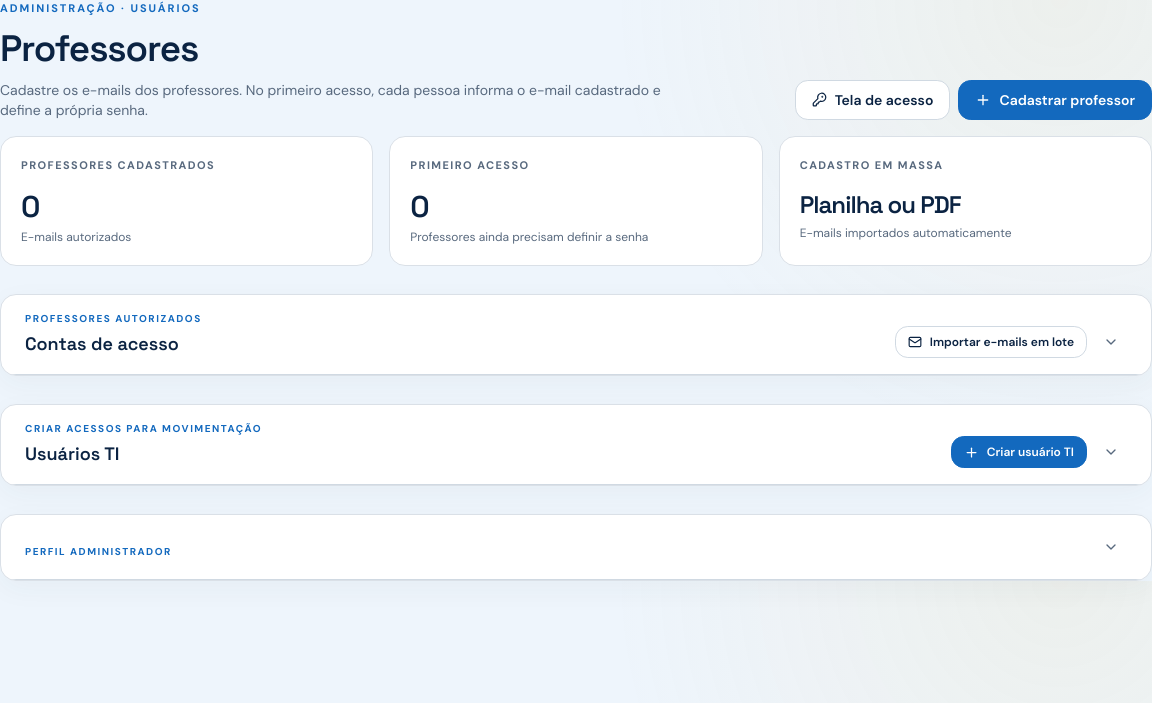
it: Teacher first access › Staff password changes › saves a TI password, confirms success, and keeps the TI account on the TI login
The width and height of the screenshot is (1152, 703).
Click the button named "Maximizar Usuários TI": point(1111, 452) [1095, 436, 1127, 468]
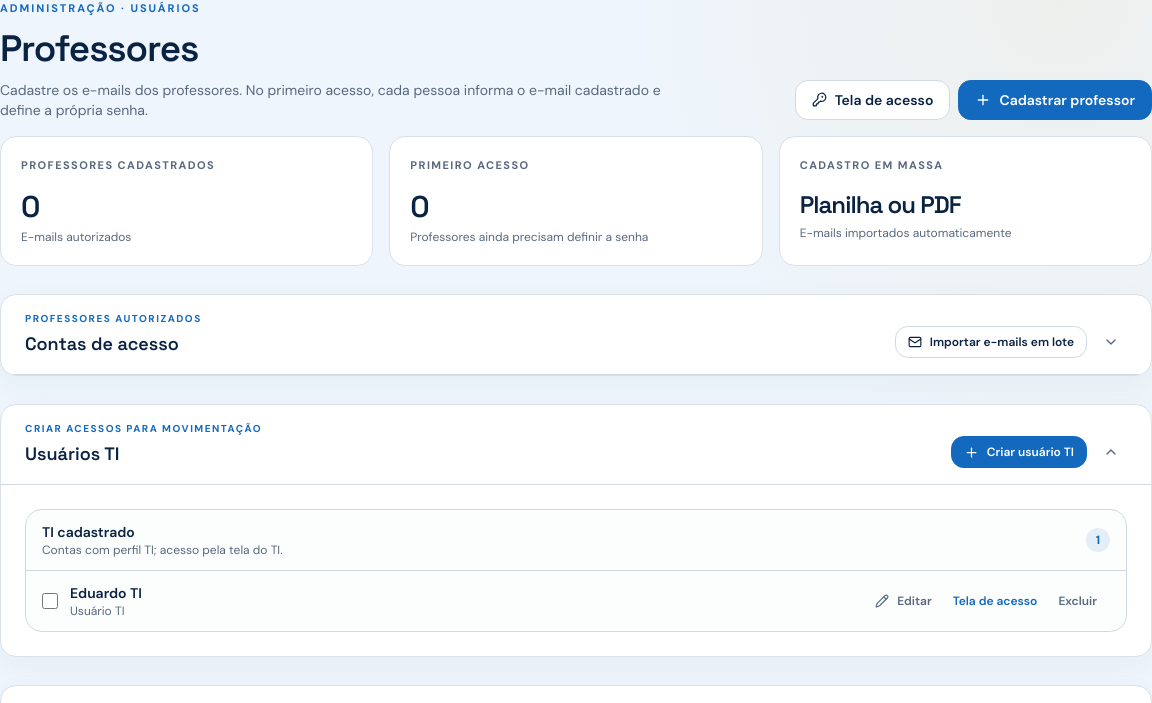
Expected: the text "Eduardo TI" is shown, [70, 583, 142, 603]
Expected: the checkbox named "Selecionar TI Eduardo TI" is shown, [42, 593, 58, 609]
Click the button "Editar": point(903, 601) [862, 585, 945, 617]
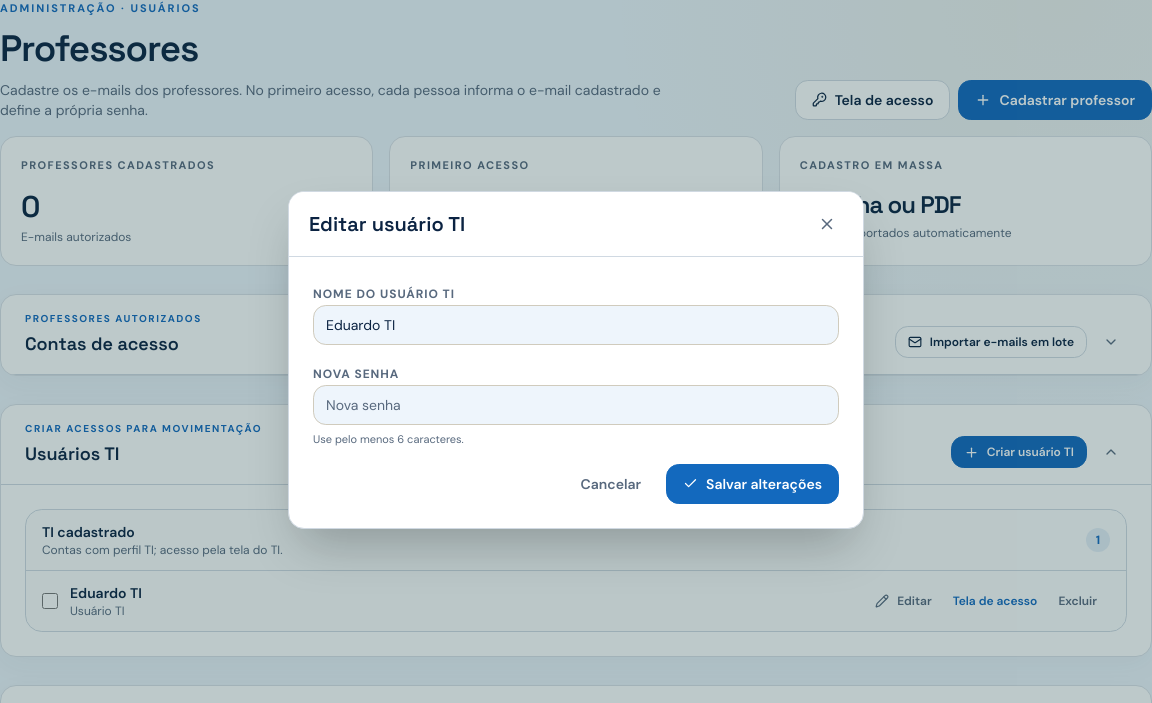
Expected: the dialog shows "Editar usuário TI", [309, 211, 465, 237]
In the password field with placeholder "Nova senha": point(576, 405) [313, 385, 839, 425], type "nova-senha-ti"
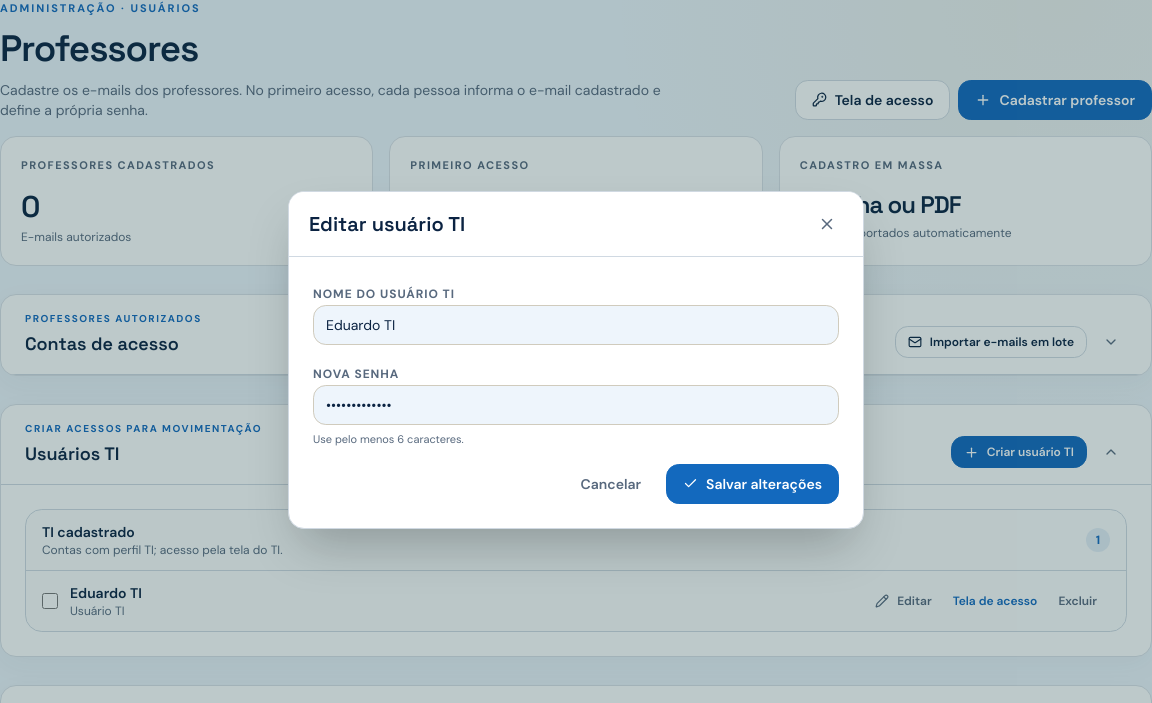
Click the button "Salvar alterações": point(753, 484) [666, 464, 839, 504]
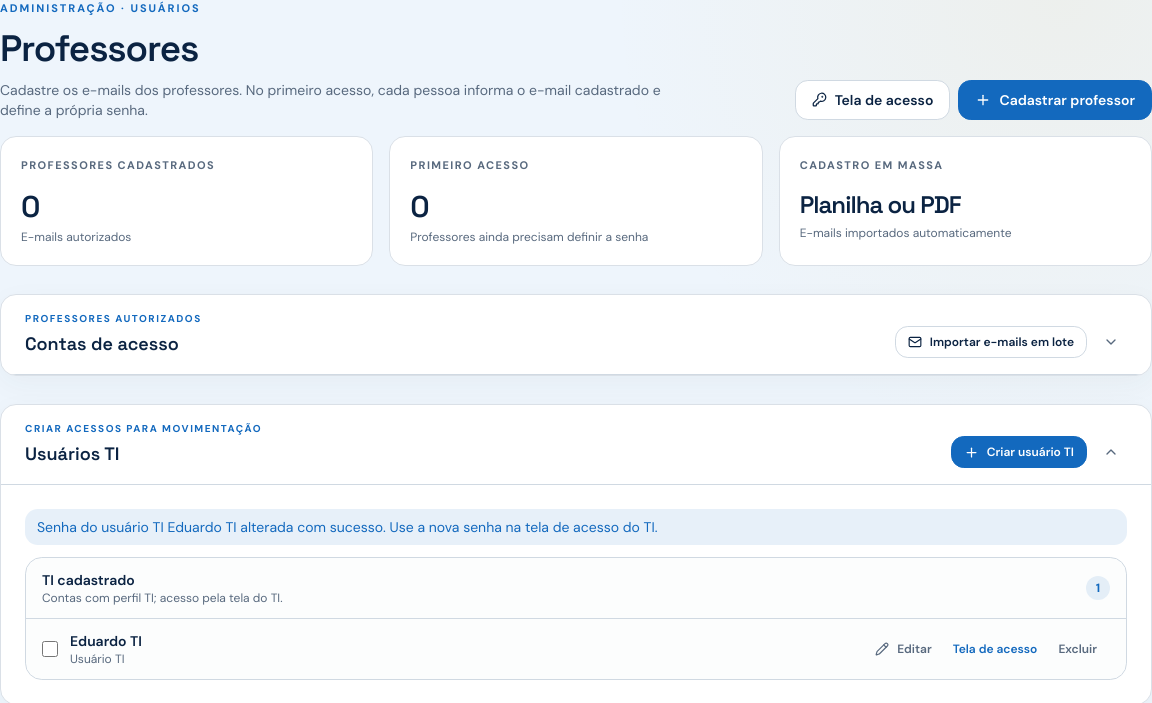
Expected: the message shows "Senha do usuário TI Eduardo TI alterada com sucesso.", [37, 518, 658, 536]
